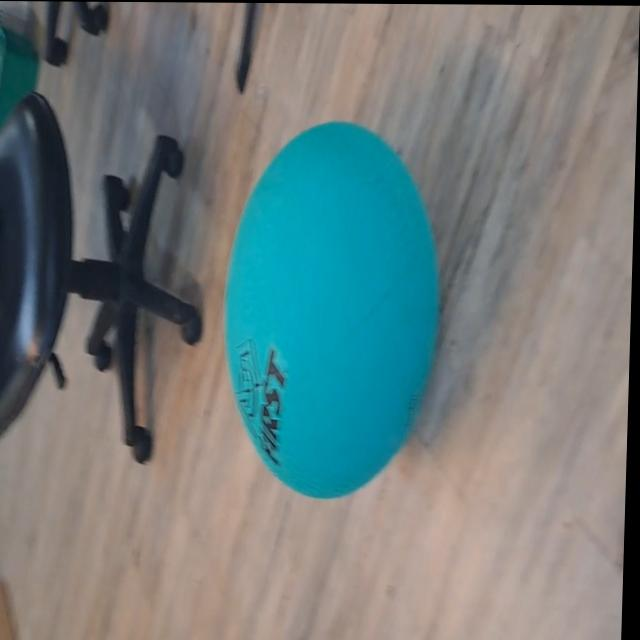ALGAE: (216, 118, 447, 502)
